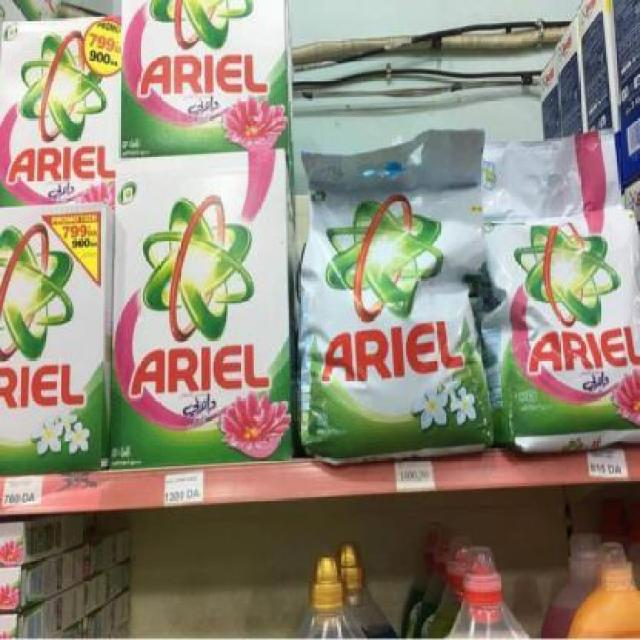Detergent: (296, 110, 490, 453), (109, 144, 294, 459), (484, 139, 639, 443), (0, 204, 105, 468), (119, 0, 293, 157), (0, 18, 117, 211)
